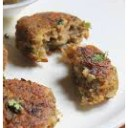cutlet: (13, 12, 93, 58), (67, 45, 119, 105), (5, 75, 58, 128)
